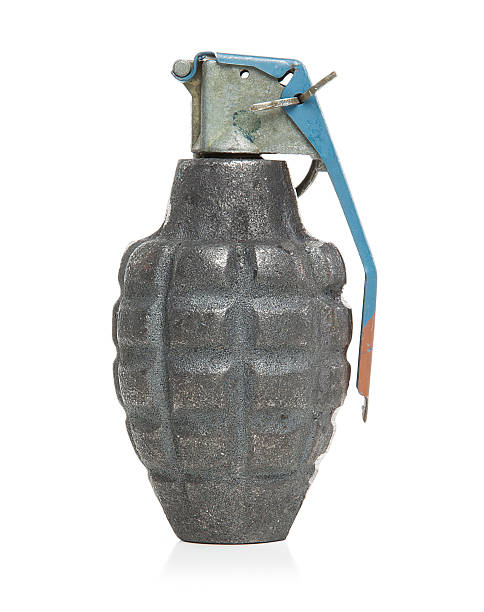e1: (114, 53, 377, 546)
